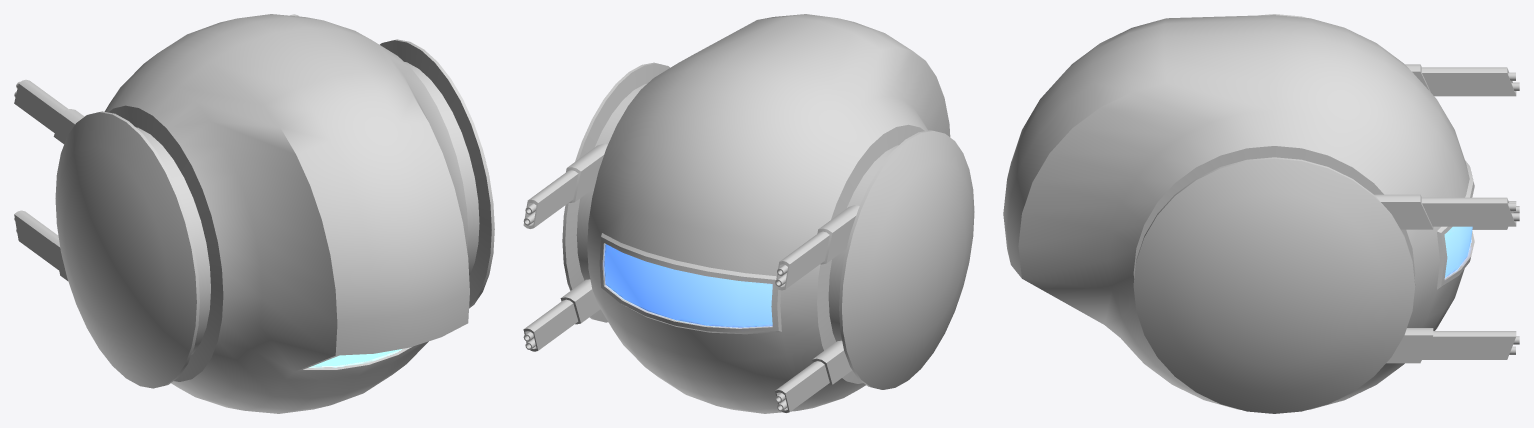
Rendered from Robot_Guardian.fbx.
3 renders of one model, left to right at view 1: azimuth 30°, elevation 25°; view 2: azimuth 150°, elevation 25°; view 3: azimuth 270°, elevation 25°, orthographic. The views are drawn at different scales.
Parts seen in each view (by area): view 1: Robot_Guardian; view 2: Robot_Guardian; view 3: Robot_Guardian.
Boxes of the visible parts, bbox=[...] form: Robot_Guardian: bbox=[14, 14, 494, 413]; Robot_Guardian: bbox=[523, 14, 974, 413]; Robot_Guardian: bbox=[1003, 14, 1519, 413].
Size of the model in its own units: 90.37 by 86.78 by 113.
